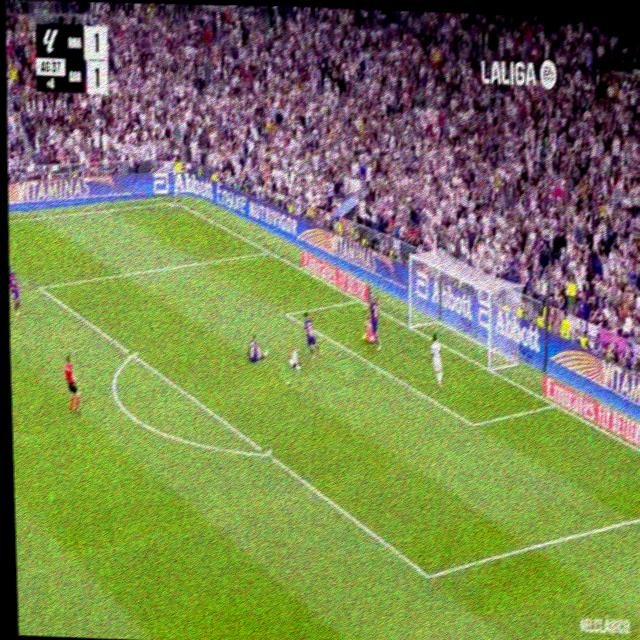bigarea_bottom_inner: (419, 557, 435, 591)
bigarea_top_inner: (35, 276, 44, 297)
bigarea_top_outter: (264, 243, 272, 258)
bottom_arc_area_intersection: (261, 440, 272, 464)
corner: (170, 195, 181, 207)
smallarea_bottom_inner: (467, 413, 478, 435)
smallarea_top_inner: (283, 305, 290, 322)
top_arc_area_intersection: (128, 343, 138, 363)
